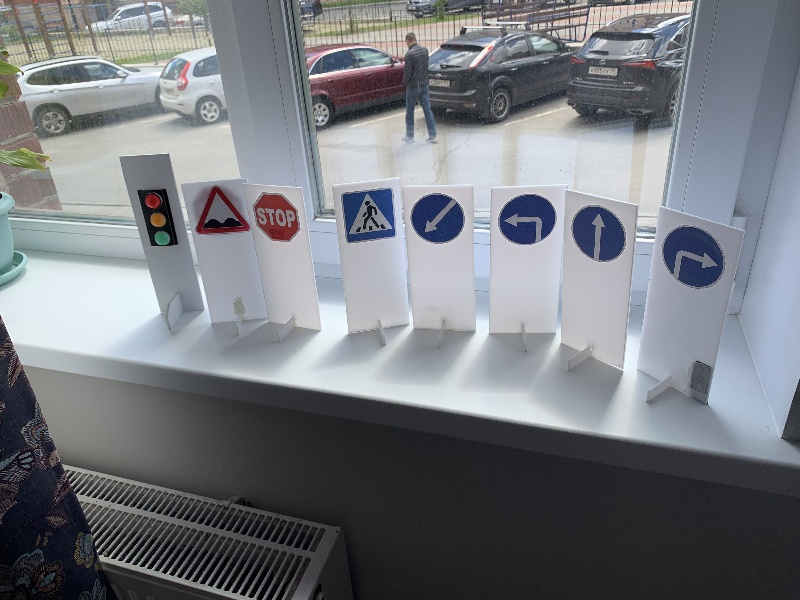Left: (496, 192, 558, 245)
Nerov: (196, 187, 248, 235)
Right: (659, 224, 728, 292)
Stop: (252, 193, 298, 244)
forw: (570, 205, 627, 263)
pesh: (338, 189, 398, 239)
prep: (408, 192, 467, 245)
